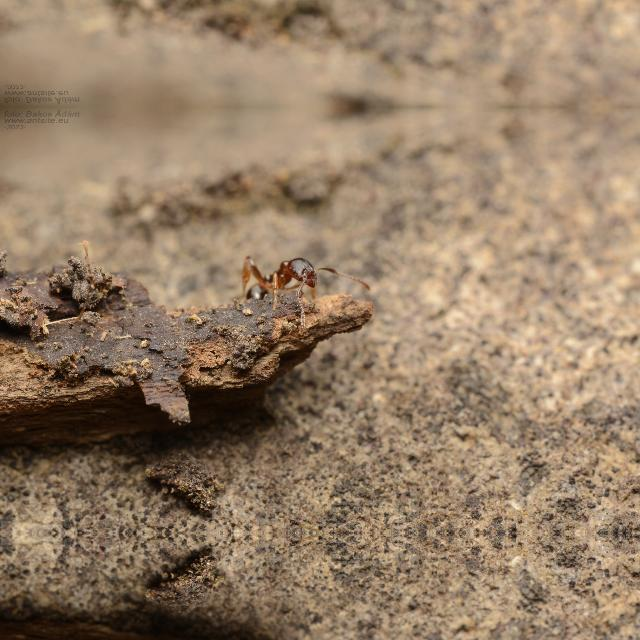Apheanogaster: (219, 242, 345, 310)
